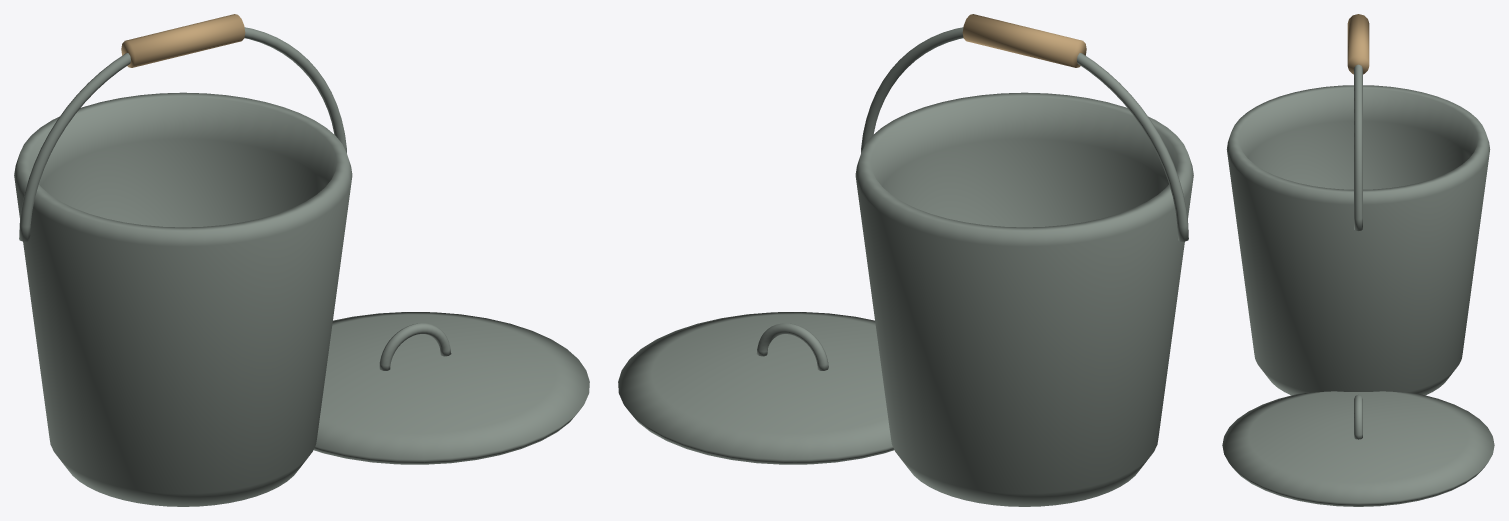
Rendered from ash_bucket.glb.
3 views of the same model, side by side, from view 1: azimuth 30°, elevation 25°; view 2: azimuth 150°, elevation 25°; view 3: azimuth 270°, elevation 25° (orthographic). The views are drawn at different scales.
Visible parts, largest first — view 1: ash_bucket__body, ash_bucket__accent; view 2: ash_bucket__body, ash_bucket__accent; view 3: ash_bucket__body, ash_bucket__accent.
Part boxes in pixels (x1,y1,x2,y2): ash_bucket__body: [14, 27, 589, 506]; ash_bucket__accent: [121, 14, 245, 67]; ash_bucket__body: [618, 27, 1193, 506]; ash_bucket__accent: [962, 14, 1086, 67]; ash_bucket__body: [1222, 64, 1494, 506]; ash_bucket__accent: [1347, 14, 1369, 74].
Bounding box in the file's own units: 0.448 × 0.335 × 0.248.
